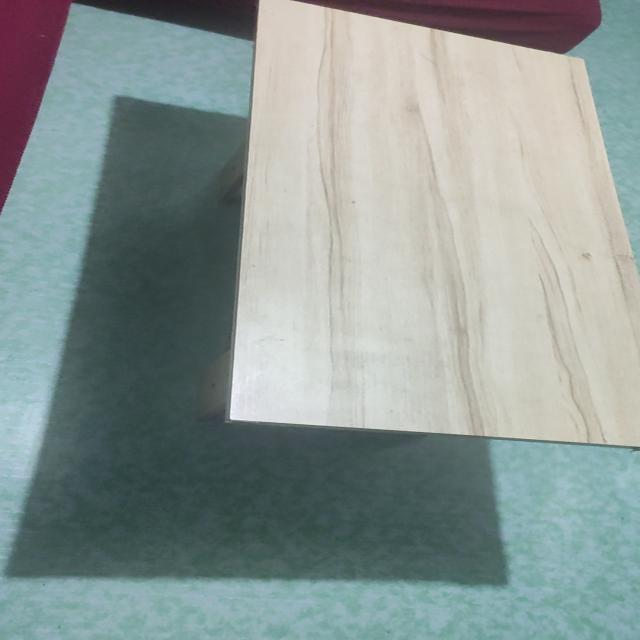table: (213, 0, 640, 471)
